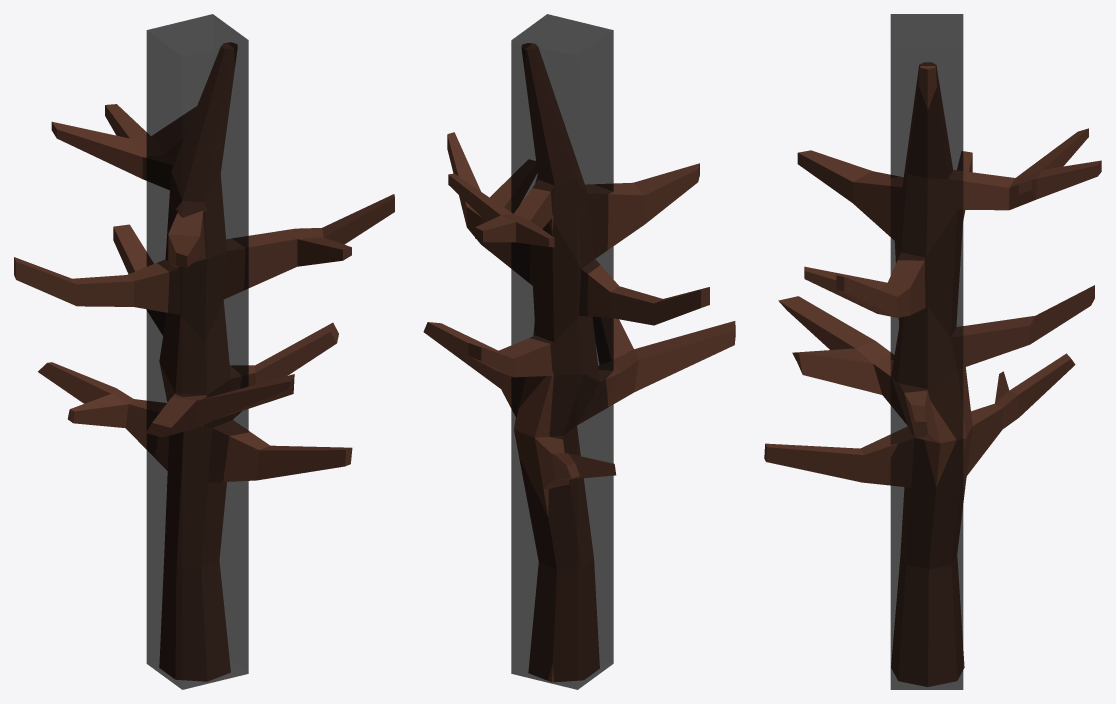
Rendered from DeadTree_Small.fbx.
The picture shows the model from 3 angles, left to right: view 1: azimuth 30°, elevation 25°; view 2: azimuth 150°, elevation 25°; view 3: azimuth 270°, elevation 25°; orthographic projection.
Visible parts, largest first — view 1: DeadTree_Small, DeadTree_Small_BBox; view 2: DeadTree_Small, DeadTree_Small_BBox; view 3: DeadTree_Small, DeadTree_Small_BBox.
Part boxes in pixels (left/top/right/bottom): DeadTree_Small: left=14, top=42, right=394, bottom=681; DeadTree_Small_BBox: left=146, top=14, right=248, bottom=689; DeadTree_Small: left=423, top=43, right=735, bottom=682; DeadTree_Small_BBox: left=511, top=14, right=613, bottom=689; DeadTree_Small: left=764, top=62, right=1101, bottom=686; DeadTree_Small_BBox: left=890, top=14, right=963, bottom=689.
Size of the model in its own units: 12.27 by 23.19 by 11.02.
